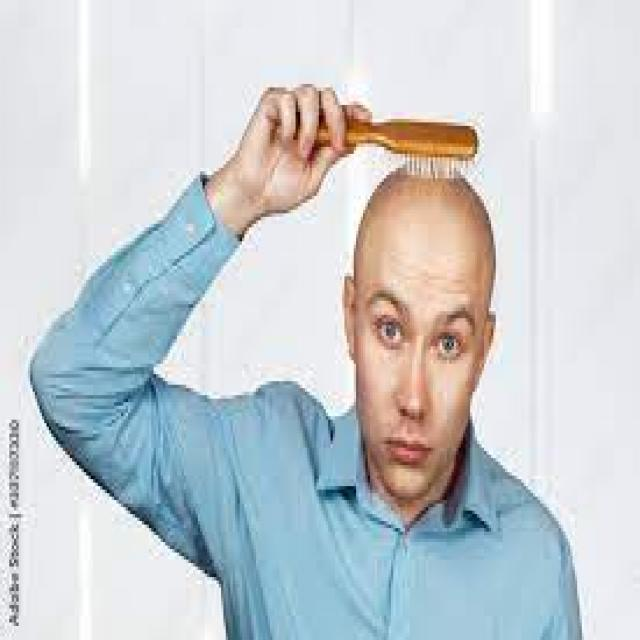bald: (347, 148, 503, 336)
